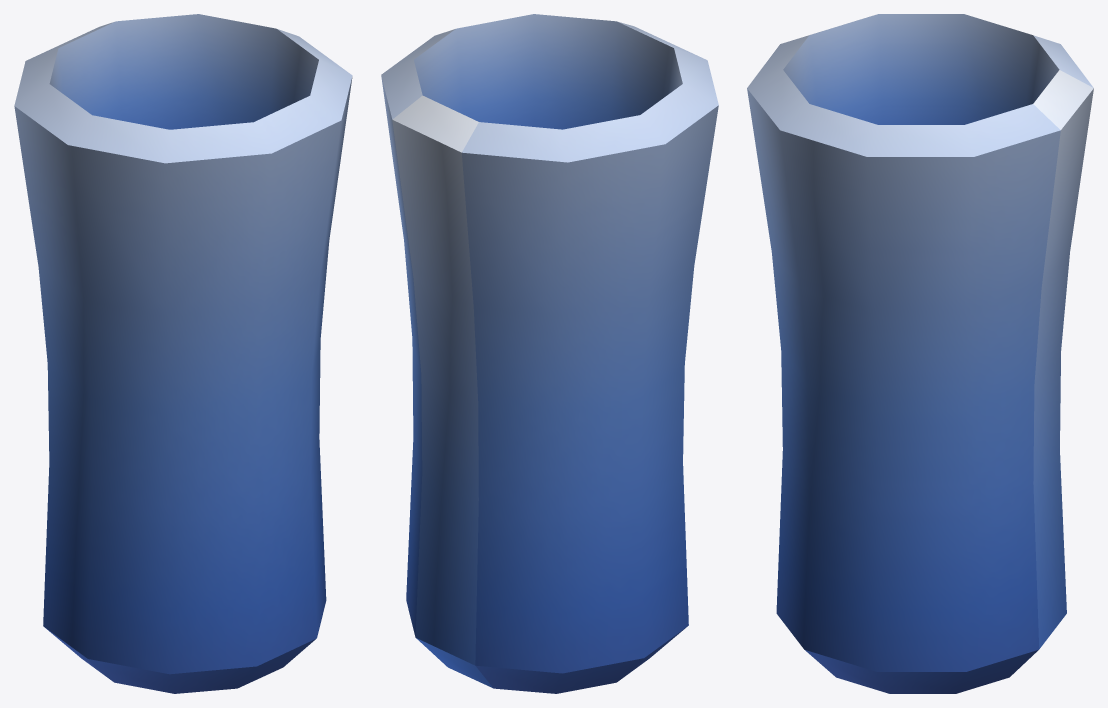
File: m_Raki01.fbx
The picture shows the model from 3 angles, left to right: view 1: azimuth 30°, elevation 25°; view 2: azimuth 150°, elevation 25°; view 3: azimuth 270°, elevation 25°; orthographic projection.
Parts seen in each view (by area): view 1: m_Raki01; view 2: m_Raki01; view 3: m_Raki01.
Part boxes in pixels (x1,y1,x2,y2): m_Raki01: (14,14,352,693); m_Raki01: (381,14,718,693); m_Raki01: (747,14,1093,693).
Size of the model in its own units: 8.18 by 15.87 by 8.6.
